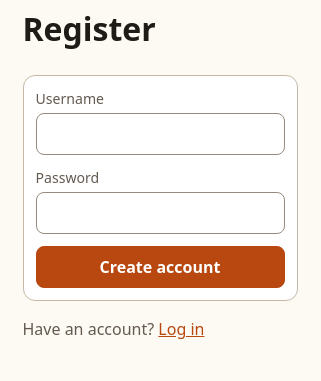
Test: shows a client-side error for a too-short password without hitting the server
Type "alice" into the field labelled "Username" at (160, 134), box [36, 113, 284, 155]
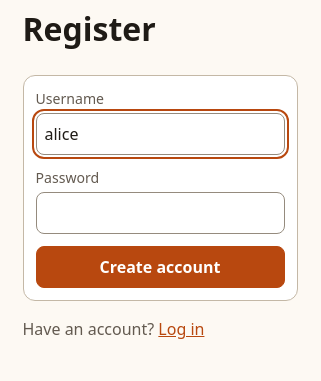
Type "short1" into the password field labelled "Password" at (160, 213), box [36, 192, 284, 234]
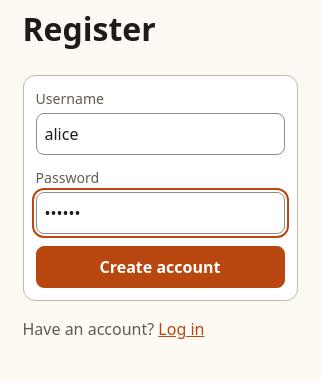
Click the button "Create account" at (160, 267), box [36, 246, 284, 288]
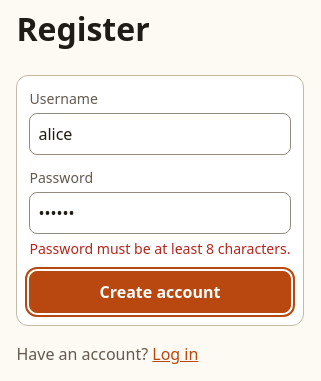
Expected: the message shows "at least 8 characters", [29, 239, 291, 258]
